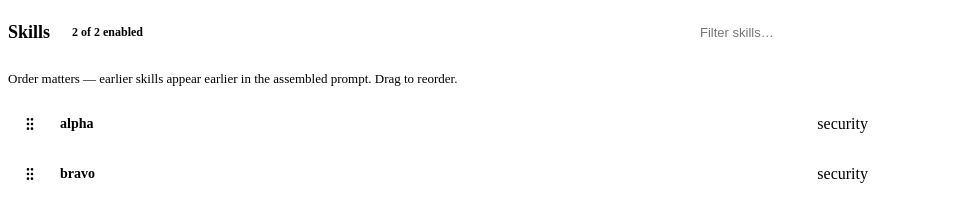
Test: agent SkillsTab › filtering hides rows and turns reordering off (no partial-list moves)
The image size is (970, 200).
Type "brav" into the field labelled "Filter skills…" at (810, 32), box 668,17 -> 952,48
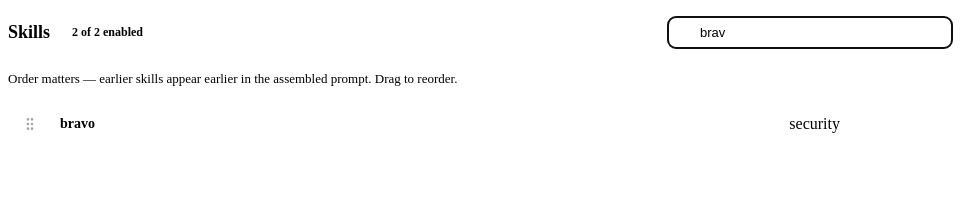
Now the number of elements with test id "skill-row" is 1, box 22,115 -> 840,132
